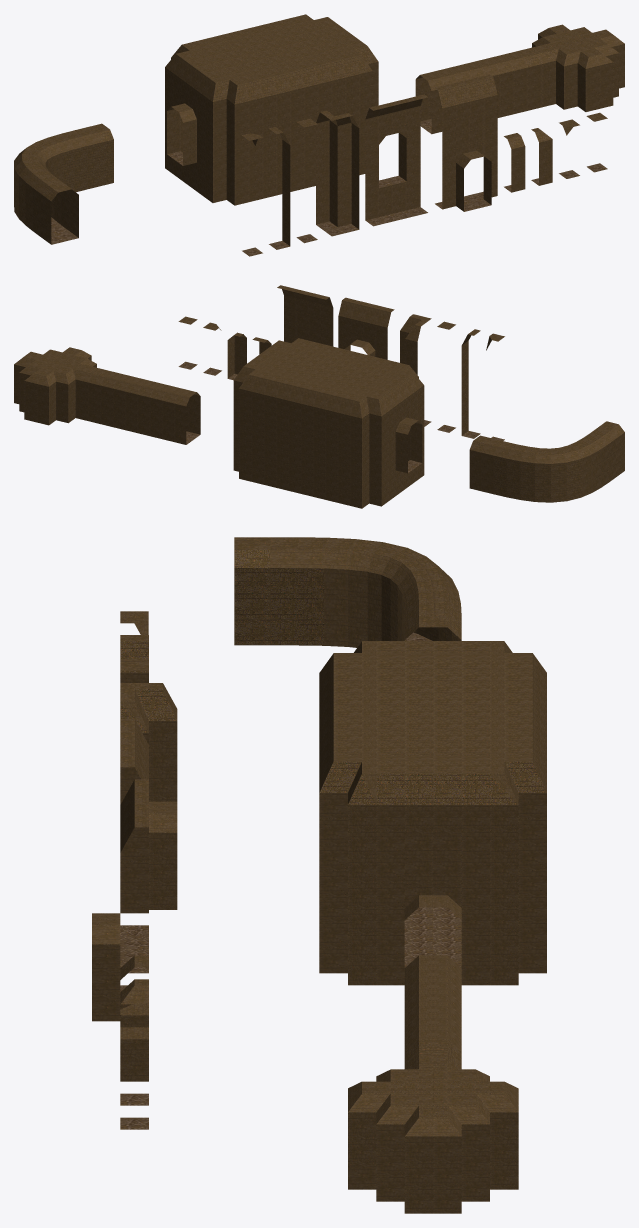
File: BuildingTiles.glb
3 views of the same model, one above another, from view 1: azimuth 30°, elevation 25°; view 2: azimuth 150°, elevation 25°; view 3: azimuth 270°, elevation 25° (orthographic). The views are drawn at different scales.
Parts seen in each view (by area): view 1: BattleRoom-col, tunnel_curve-col, door-col, SpawnRoom-col, doorup-col, CornerOut-col, tunnel_L-col, Wall-col, tunnel_R-col, wallsmall-col, walloutersmall-col; view 2: BattleRoom-col, tunnel_curve-col, tunnel_R-col, SpawnRoom-col, doorup-col, door-col, tunnel_L-col, CornerOut-col, Wall-col, walloutersmall-col; view 3: BattleRoom-col, SpawnRoom-col, tunnel_curve-col, CornerOut-col, doorup-col, door-col, tunnel_L-col, tunnel_R-col, walloutersmall-col, Wall-col.
Boxes of the visible parts, bbox=[...] form: BattleRoom-col: bbox=[165, 14, 378, 205]; tunnel_curve-col: bbox=[14, 123, 113, 244]; door-col: bbox=[434, 74, 497, 211]; SpawnRoom-col: bbox=[530, 24, 624, 111]; doorup-col: bbox=[365, 94, 427, 226]; CornerOut-col: bbox=[316, 110, 359, 236]; tunnel_L-col: bbox=[424, 51, 541, 134]; Wall-col: bbox=[269, 127, 290, 249]; tunnel_R-col: bbox=[415, 48, 533, 128]; wallsmall-col: bbox=[504, 133, 525, 192]; walloutersmall-col: bbox=[531, 128, 552, 185]; BattleRoom-col: bbox=[233, 338, 424, 508]; tunnel_curve-col: bbox=[469, 421, 624, 502]; tunnel_R-col: bbox=[88, 371, 192, 444]; SpawnRoom-col: bbox=[14, 347, 97, 425]; doorup-col: bbox=[338, 297, 394, 359]; door-col: bbox=[277, 285, 333, 346]; tunnel_L-col: bbox=[95, 368, 200, 439]; CornerOut-col: bbox=[400, 314, 431, 426]; Wall-col: bbox=[461, 329, 480, 438]; walloutersmall-col: bbox=[227, 332, 246, 380]; BattleRoom-col: bbox=[319, 641, 546, 985]; SpawnRoom-col: bbox=[348, 1051, 518, 1213]; tunnel_curve-col: bbox=[234, 537, 461, 647]; CornerOut-col: bbox=[120, 683, 177, 913]; doorup-col: bbox=[120, 719, 177, 973]; door-col: bbox=[92, 779, 148, 1021]; tunnel_L-col: bbox=[404, 955, 433, 1063]; tunnel_R-col: bbox=[433, 955, 461, 1063]; walloutersmall-col: bbox=[120, 979, 148, 1081]; Wall-col: bbox=[120, 635, 148, 682].
Bounding box in the file's own units: 45 × 8 × 16.
Materials: 2 (2 with a texture image).
